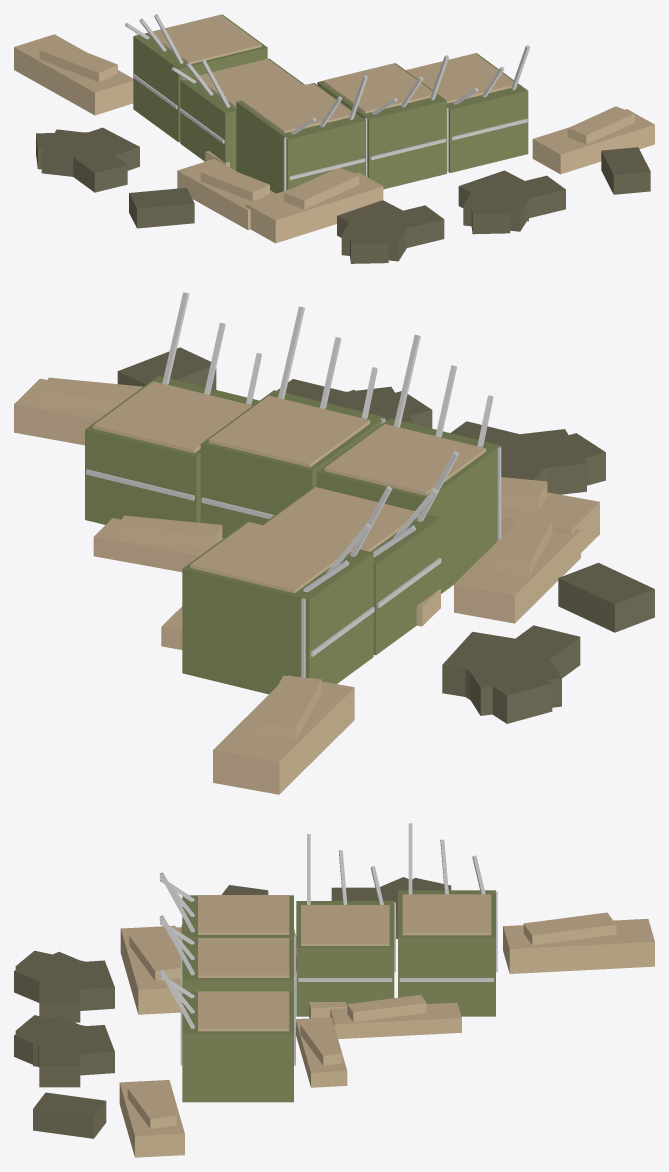
The model's file is SM_HescoEsquina_v3_RemateSacos_e2_MuyDanado_LOD0.fbx.
3 views of the same model, one above another, from view 1: azimuth 30°, elevation 25°; view 2: azimuth 150°, elevation 25°; view 3: azimuth 270°, elevation 25° (orthographic). The views are drawn at different scales.
Parts seen in each view (by area): view 1: SM_hesco_piezas_v14_LOD0; view 2: SM_hesco_piezas_v14_LOD0; view 3: SM_hesco_piezas_v14_LOD0.
Boxes of the visible parts, bbox=[...] form: SM_hesco_piezas_v14_LOD0: bbox=[14, 14, 654, 263]; SM_hesco_piezas_v14_LOD0: bbox=[14, 292, 654, 794]; SM_hesco_piezas_v14_LOD0: bbox=[14, 823, 654, 1157].
Size of the model in its own units: 6.71 by 1.67 by 7.01.
